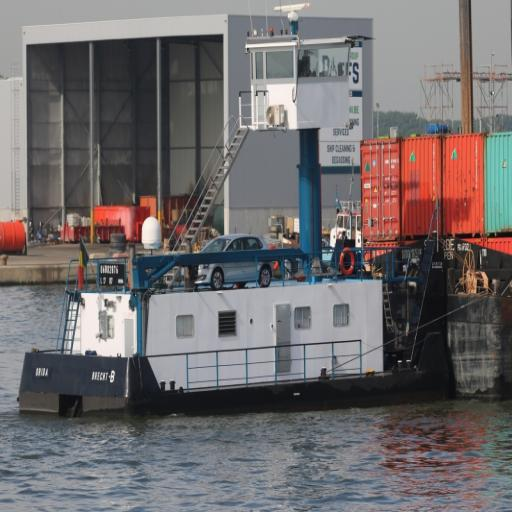tugboat: (12, 2, 441, 429)
